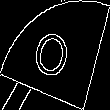O_S: (32, 23, 78, 87)
